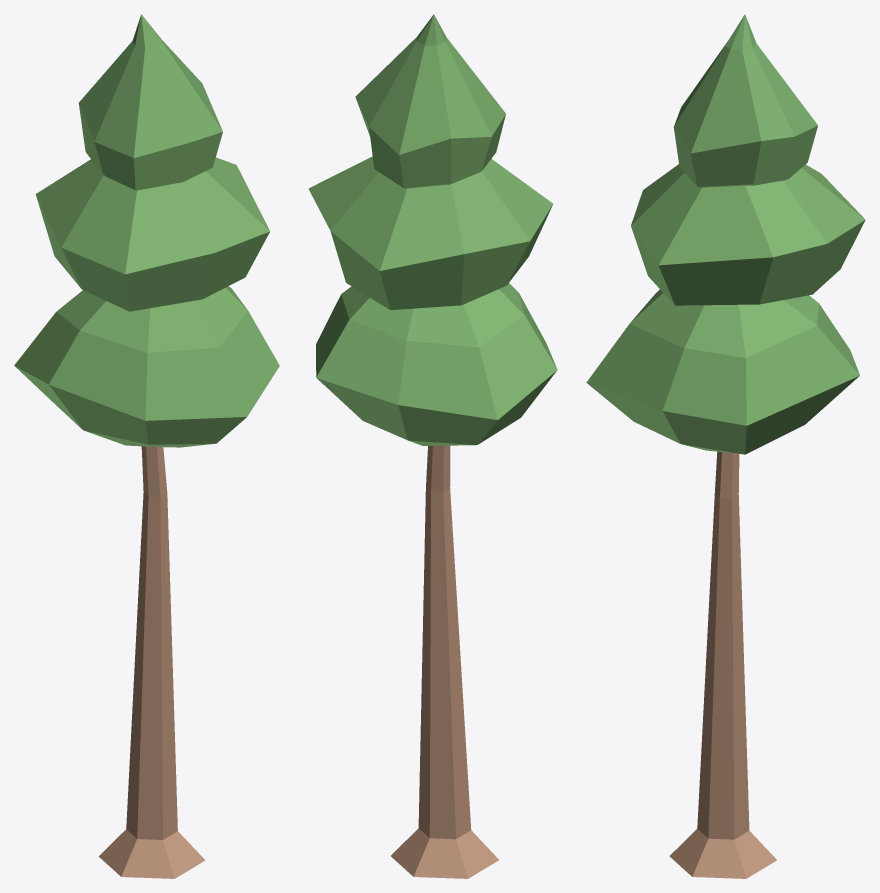
File: SM_Tree_09.fbx
3 renders of one model, left to right at view 1: azimuth 30°, elevation 25°; view 2: azimuth 150°, elevation 25°; view 3: azimuth 270°, elevation 25°, orthographic.
Visible parts, largest first — view 1: SM_Tree_09; view 2: SM_Tree_09; view 3: SM_Tree_09.
Part boxes in pixels (x1,y1,x2,y2): SM_Tree_09: (14, 14, 279, 878); SM_Tree_09: (308, 14, 557, 878); SM_Tree_09: (586, 14, 865, 878).
Bounding box in the file's own units: 98.19 × 106 × 354.
2 materials, 2 textured.
